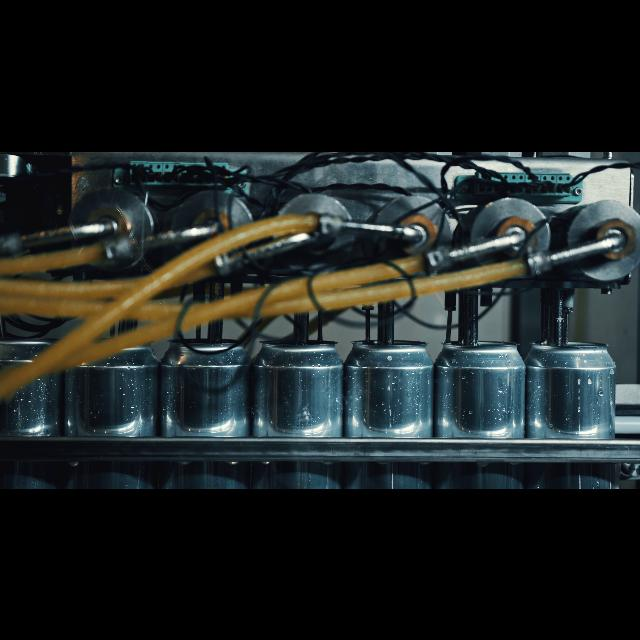empty: (257, 334, 341, 488), (532, 339, 618, 488), (72, 336, 154, 488), (350, 336, 432, 488), (444, 339, 526, 488), (165, 338, 245, 488), (1, 330, 61, 488)
